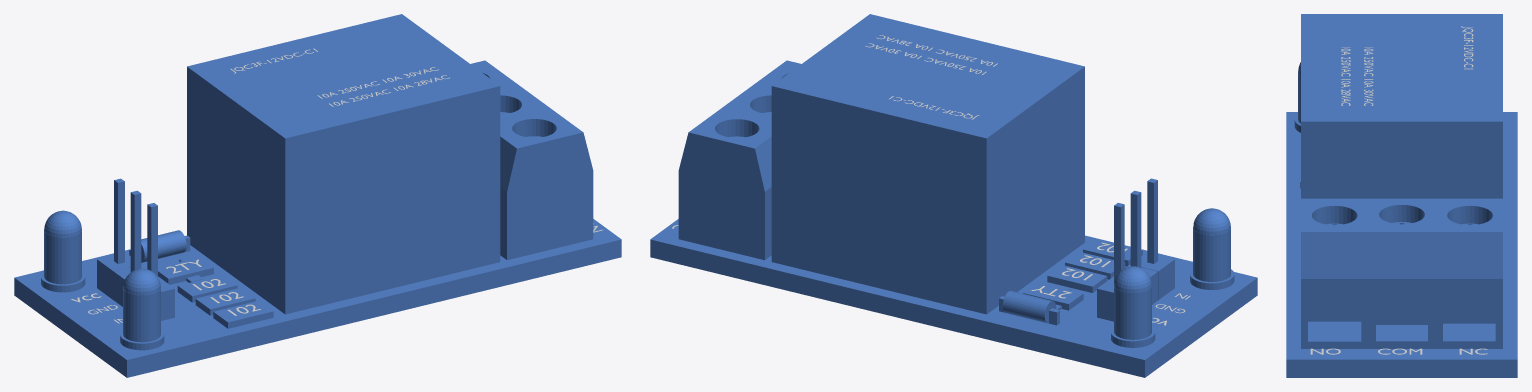
Rendered from relay.glb.
3 views of the same model, side by side, from view 1: azimuth 30°, elevation 25°; view 2: azimuth 150°, elevation 25°; view 3: azimuth 270°, elevation 25° (orthographic). The views are drawn at different scales.
Parts seen in each view (by area): view 1: geometry_0; view 2: geometry_0; view 3: geometry_0.
Boxes of the visible parts, x1,y1,x2,y2 form: geometry_0: [14, 14, 621, 377]; geometry_0: [650, 14, 1257, 377]; geometry_0: [1286, 14, 1517, 377].
Size of the model in its own units: 0.8708 by 0.336 by 0.3438.
